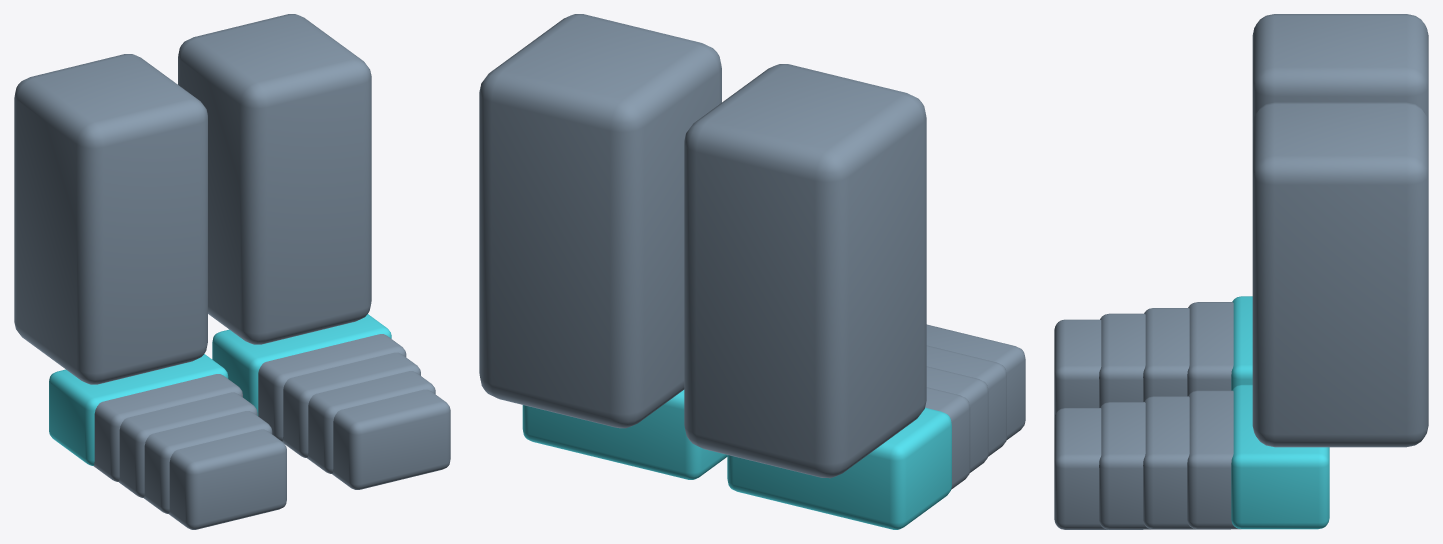
Rendered from boots_v5.glb.
3 renders of one model, left to right at view 1: azimuth 30°, elevation 25°; view 2: azimuth 150°, elevation 25°; view 3: azimuth 270°, elevation 25°, orthographic. The views are drawn at different scales.
Parts seen in each view (by area): view 1: PLATE_ANKLE_PRIMARY, PLATE_ANKLE_PRIMARY.001, PLATE_SABATON_PRIMARY.003, PLATE_SABATON_PRIMARY.007, PLATE_SABATON_ACCENT, PLATE_SABATON_ACCENT.001, PLATE_SABATON_PRIMARY, PLATE_SABATON_PRIMARY.004, PLATE_SABATON_PRIMARY.001, PLATE_SABATON_PRIMARY.005, PLATE_SABATON_PRIMARY.002, PLATE_SABATON_PRIMARY.006; view 2: PLATE_ANKLE_PRIMARY, PLATE_ANKLE_PRIMARY.001, PLATE_SABATON_ACCENT, PLATE_SABATON_ACCENT.001, PLATE_SABATON_PRIMARY.003, PLATE_SABATON_PRIMARY.002, PLATE_SABATON_PRIMARY.001, PLATE_SABATON_PRIMARY; view 3: PLATE_ANKLE_PRIMARY.001, PLATE_ANKLE_PRIMARY, PLATE_SABATON_ACCENT.001, PLATE_SABATON_PRIMARY.004, PLATE_SABATON_PRIMARY.005, PLATE_SABATON_PRIMARY.006, PLATE_SABATON_PRIMARY.007, PLATE_SABATON_PRIMARY.003, PLATE_SABATON_PRIMARY, PLATE_SABATON_PRIMARY.001, PLATE_SABATON_PRIMARY.002, PLATE_SABATON_ACCENT.
Boxes of the visible parts, left/top/right/bottom form: PLATE_ANKLE_PRIMARY: left=14, top=54, right=207, bottom=384; PLATE_ANKLE_PRIMARY.001: left=178, top=14, right=371, bottom=344; PLATE_SABATON_PRIMARY.003: left=169, top=429, right=286, bottom=529; PLATE_SABATON_PRIMARY.007: left=332, top=389, right=450, bottom=489; PLATE_SABATON_ACCENT: left=49, top=354, right=228, bottom=465; PLATE_SABATON_ACCENT.001: left=212, top=314, right=391, bottom=415; PLATE_SABATON_PRIMARY: left=93, top=374, right=242, bottom=481; PLATE_SABATON_PRIMARY.004: left=258, top=334, right=406, bottom=441; PLATE_SABATON_PRIMARY.001: left=119, top=392, right=257, bottom=497; PLATE_SABATON_PRIMARY.005: left=282, top=352, right=420, bottom=457; PLATE_SABATON_PRIMARY.002: left=144, top=411, right=272, bottom=513; PLATE_SABATON_PRIMARY.006: left=307, top=371, right=435, bottom=473; PLATE_ANKLE_PRIMARY: left=684, top=64, right=926, bottom=478; PLATE_ANKLE_PRIMARY.001: left=479, top=14, right=721, bottom=428; PLATE_SABATON_ACCENT: left=727, top=407, right=951, bottom=529; PLATE_SABATON_ACCENT.001: left=522, top=390, right=727, bottom=479; PLATE_SABATON_PRIMARY.003: left=926, top=324, right=1025, bottom=440; PLATE_SABATON_PRIMARY.002: left=926, top=345, right=1006, bottom=456; PLATE_SABATON_PRIMARY.001: left=926, top=366, right=988, bottom=472; PLATE_SABATON_PRIMARY: left=925, top=387, right=970, bottom=489; PLATE_ANKLE_PRIMARY.001: left=1252, top=102, right=1428, bottom=447; PLATE_ANKLE_PRIMARY: left=1252, top=14, right=1428, bottom=122; PLATE_SABATON_ACCENT.001: left=1231, top=384, right=1329, bottom=529; PLATE_SABATON_PRIMARY.004: left=1187, top=390, right=1240, bottom=529; PLATE_SABATON_PRIMARY.005: left=1143, top=396, right=1230, bottom=529; PLATE_SABATON_PRIMARY.006: left=1099, top=402, right=1152, bottom=529; PLATE_SABATON_PRIMARY.007: left=1054, top=408, right=1142, bottom=529; PLATE_SABATON_PRIMARY.003: left=1054, top=319, right=1101, bottom=417; PLATE_SABATON_PRIMARY: left=1187, top=302, right=1233, bottom=396; PLATE_SABATON_PRIMARY.001: left=1143, top=308, right=1189, bottom=401; PLATE_SABATON_PRIMARY.002: left=1099, top=313, right=1145, bottom=407; PLATE_SABATON_ACCENT: left=1231, top=296, right=1252, bottom=390.
Size of the model in its own units: 1.42 by 1.51 by 1.36.
